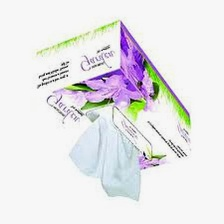book: (25, 14, 197, 176)
tissue: (61, 108, 147, 210)
